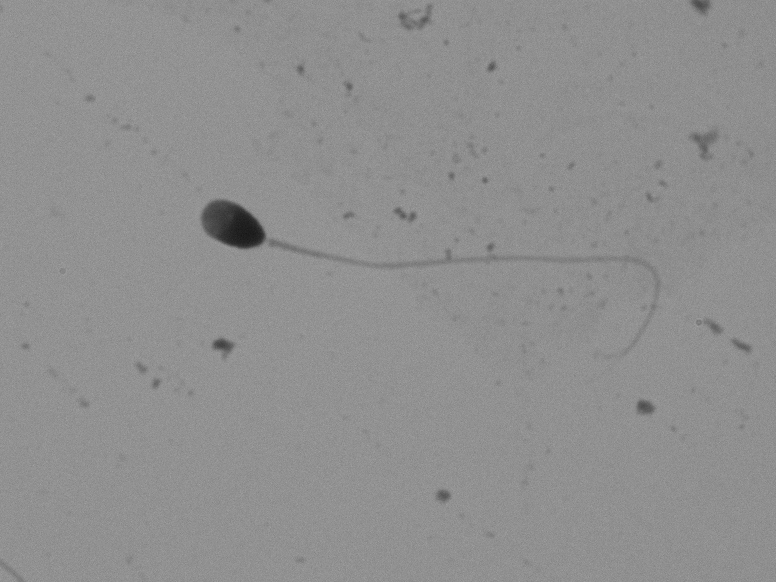Normal: (153, 158, 667, 374)
